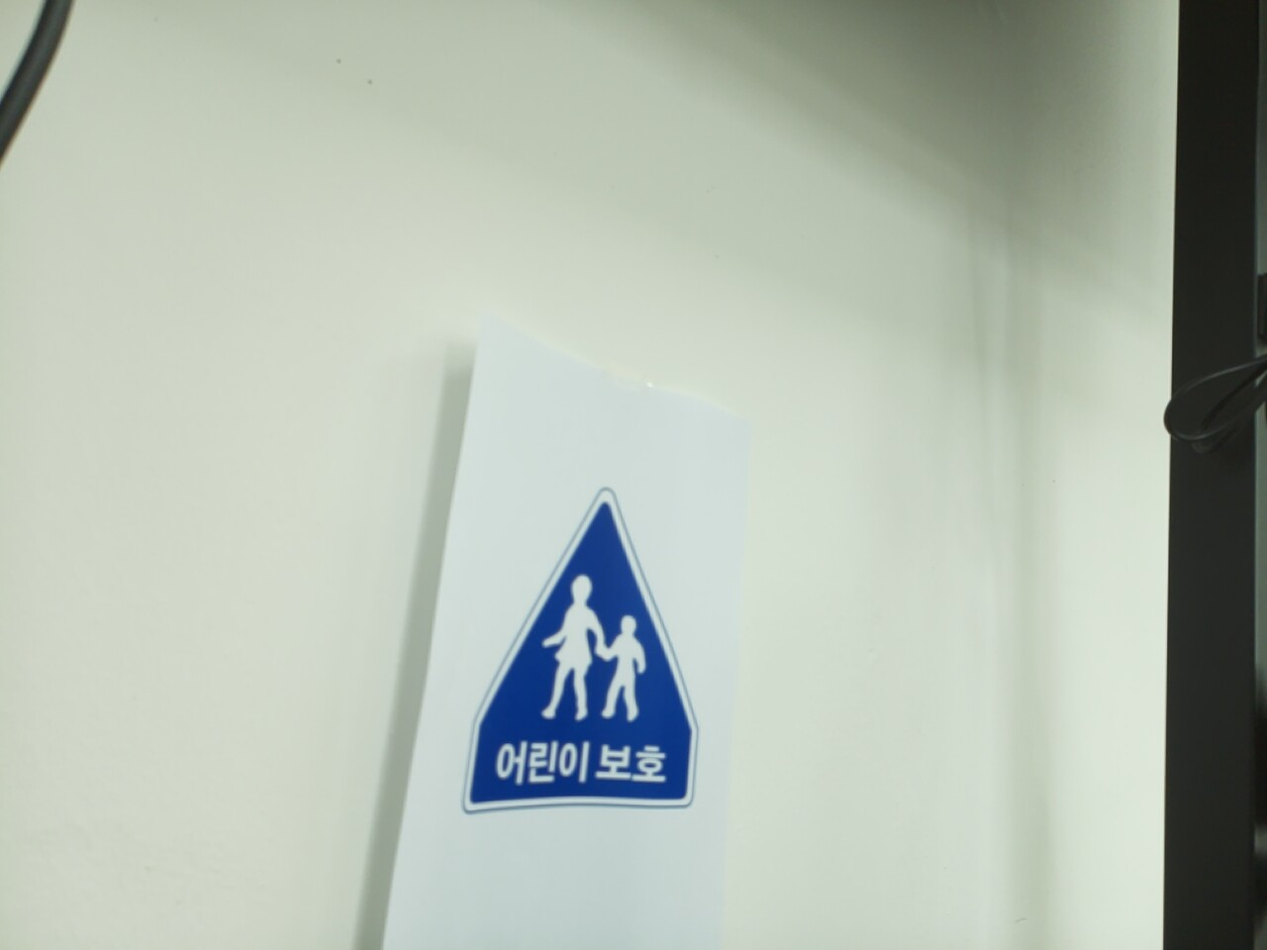school_zone: (462, 493, 700, 813)
